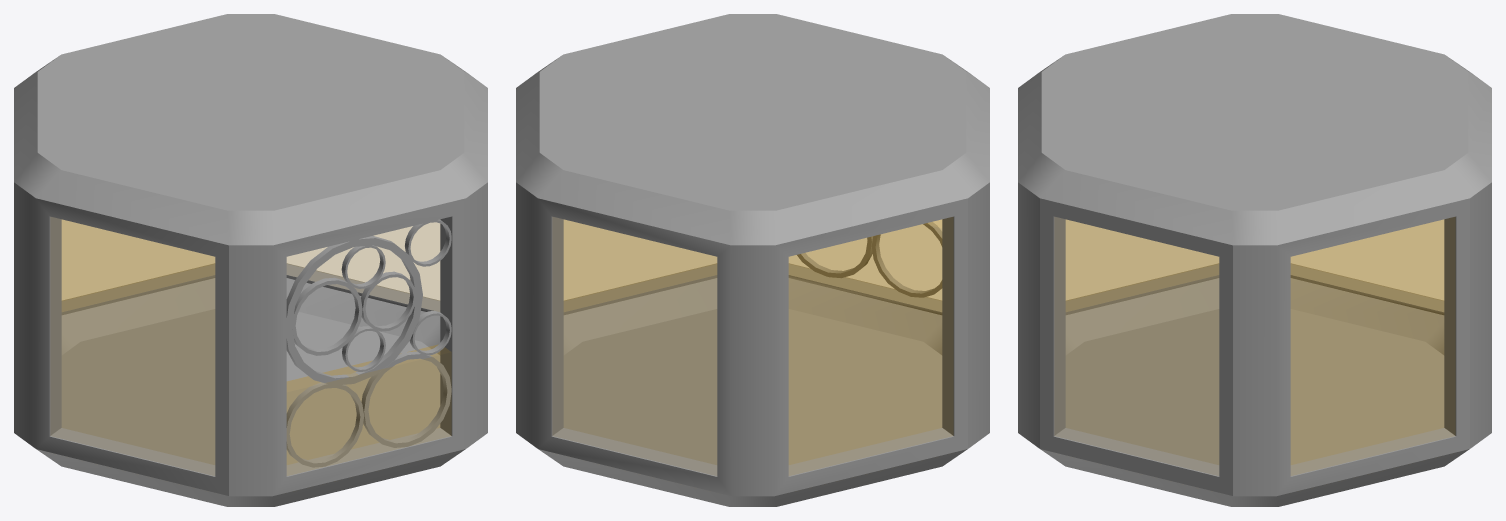
Rendered from cage_small.fbx.
The picture shows the model from 3 angles, left to right: view 1: azimuth 30°, elevation 25°; view 2: azimuth 150°, elevation 25°; view 3: azimuth 270°, elevation 25°; orthographic projection.
Parts seen in each view (by area): view 1: polySurface35; view 2: polySurface35; view 3: polySurface35.
Boxes of the visible parts, <box> form: polySurface35: <box>14,14,487,506</box>; polySurface35: <box>516,14,989,506</box>; polySurface35: <box>1018,14,1491,506</box>.
Size of the model in its own units: 119 by 74.71 by 108.
